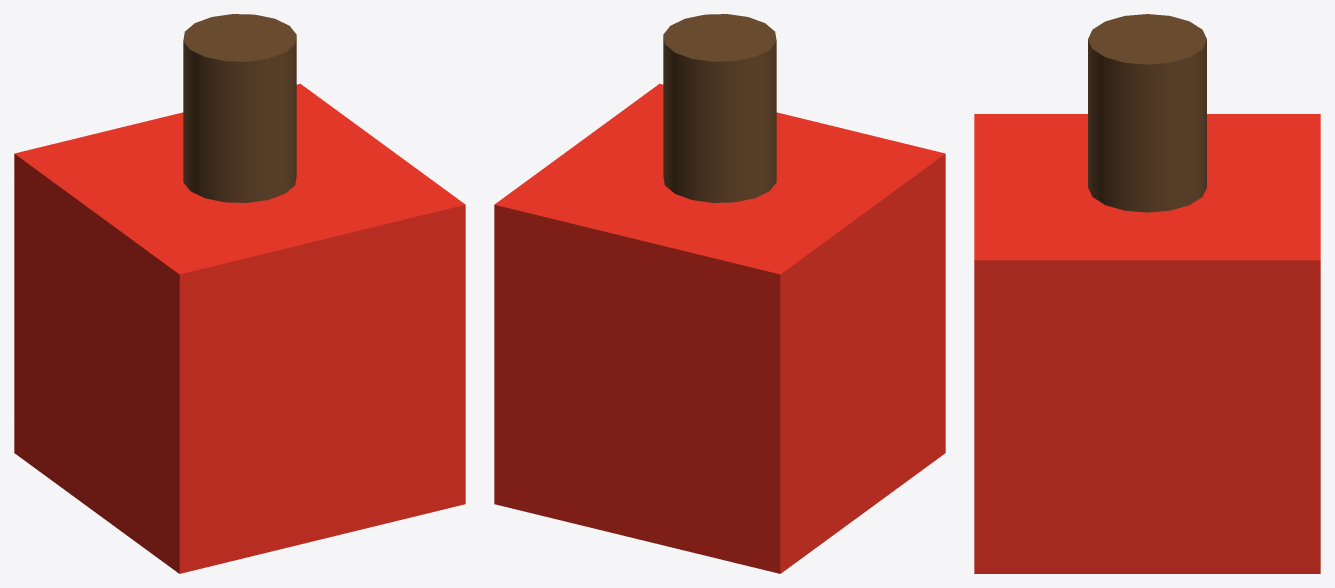
The model's file is apple.glb.
The picture shows the model from 3 angles, left to right: view 1: azimuth 30°, elevation 25°; view 2: azimuth 150°, elevation 25°; view 3: azimuth 270°, elevation 25°; orthographic projection. The views are drawn at different scales.
Bounding box in the file's own units: 0.1 × 0.1472 × 0.1.
